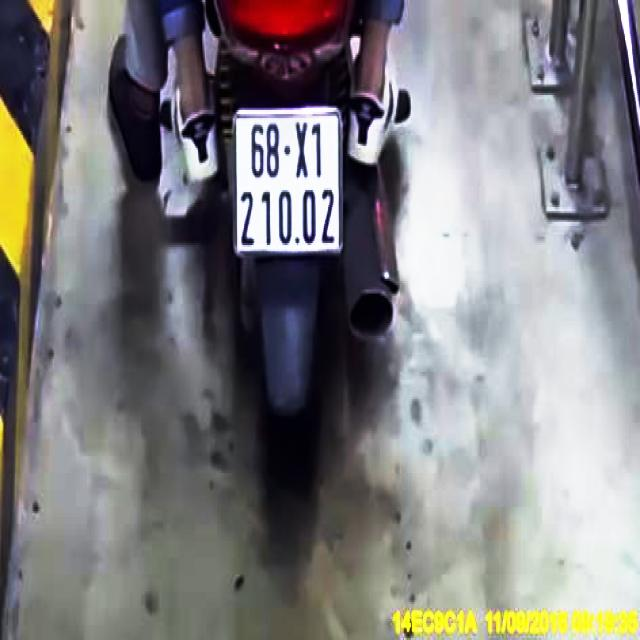license_plate: (235, 109, 342, 255)
